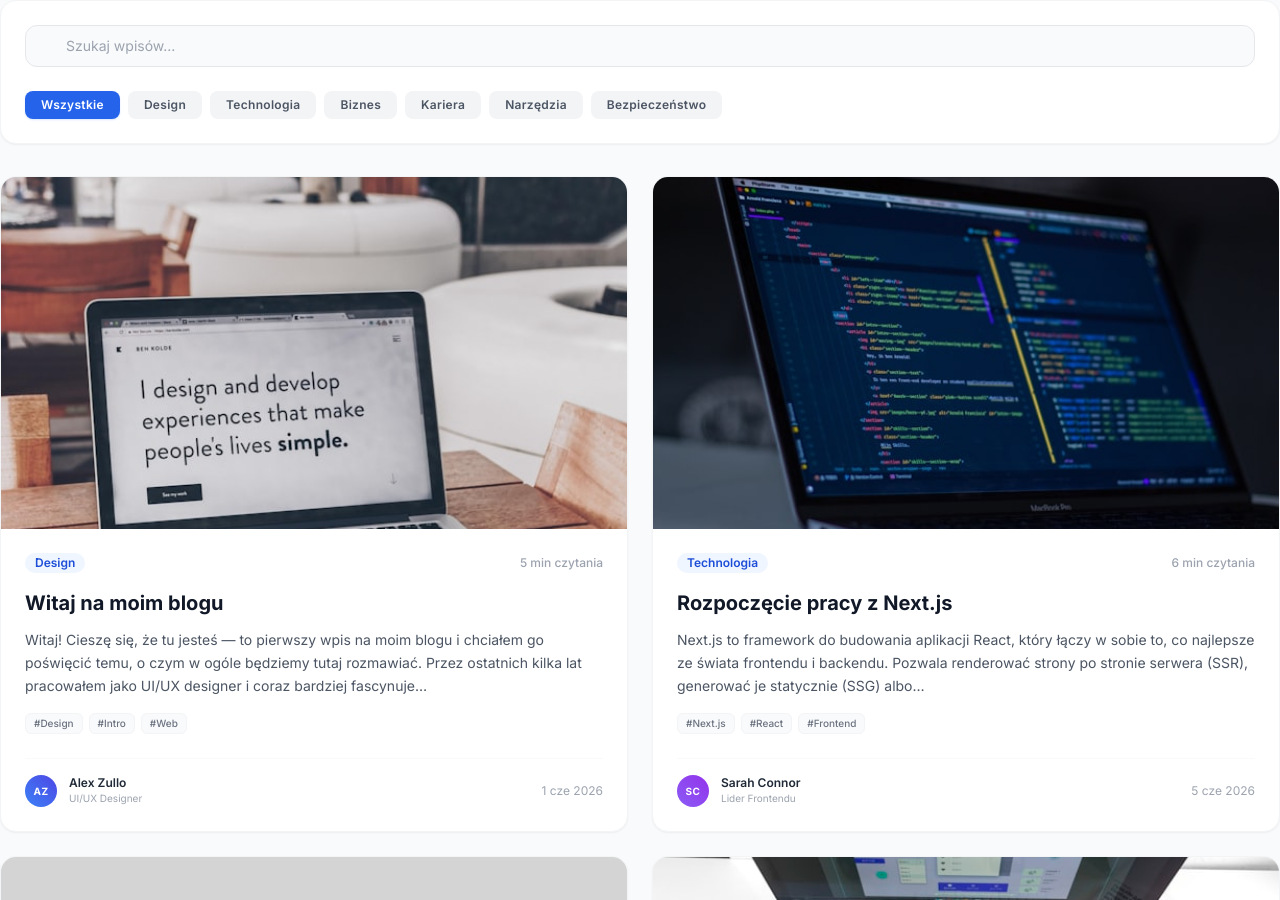
PostList Component › filters posts based on selected category badge
# Click "Design" category filter
Step 1. Click the button "Design" → (165, 105), box x1=128 y1=91 x2=202 y2=119
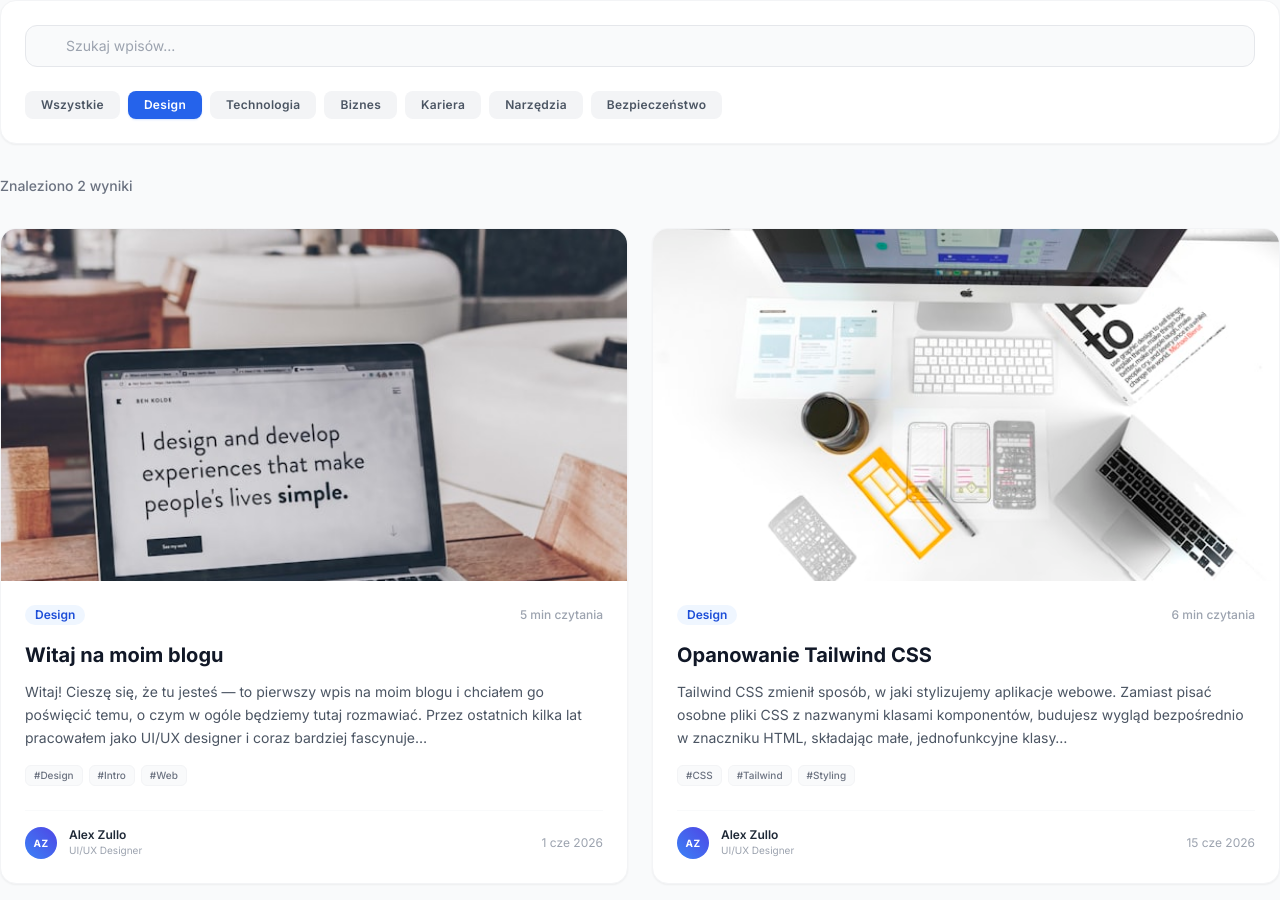
Expected: the link "Witaj na moim blogu" is shown, x1=25 y1=643 x2=224 y2=667
Expected: the link "Rozpoczęcie pracy z Next.js" is gone
